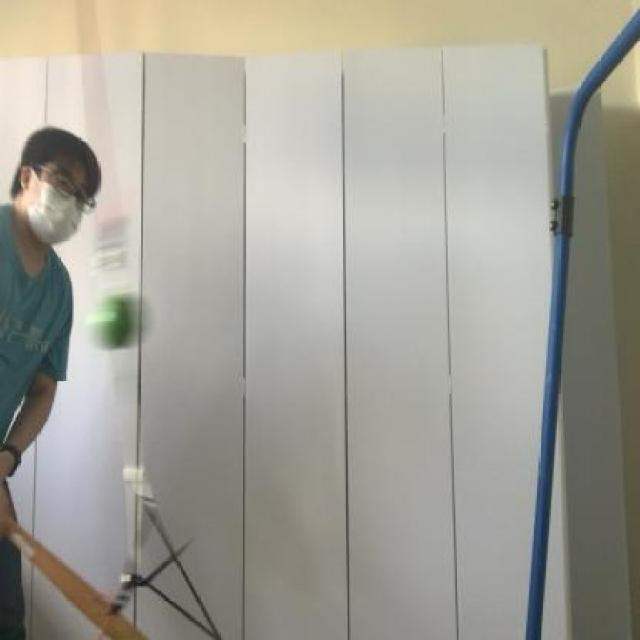baseball: (84, 280, 154, 355)
